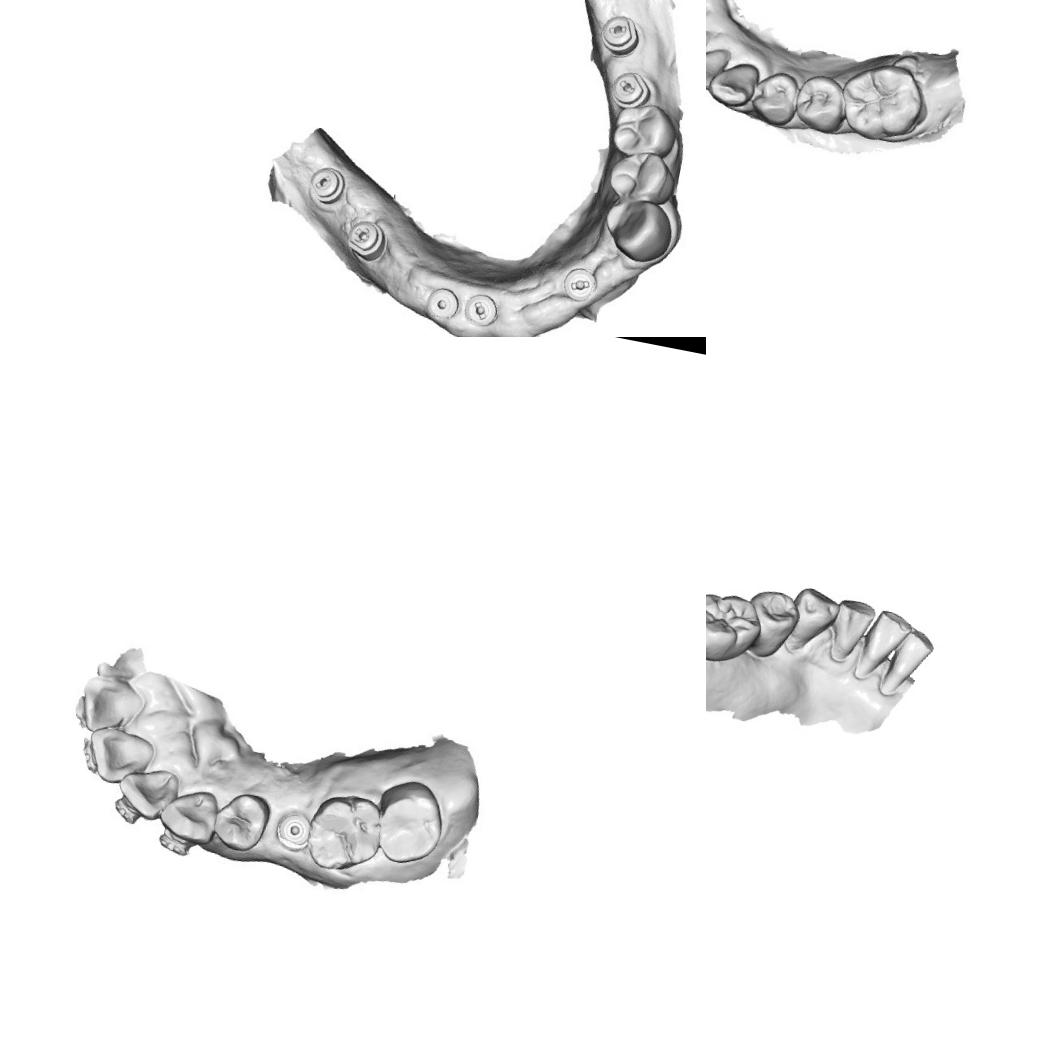canine: (606, 194, 674, 267), (157, 779, 225, 848), (783, 582, 844, 655), (706, 55, 760, 112)
implant: (421, 280, 463, 324), (273, 809, 312, 852)
implant_minus: (593, 6, 648, 66), (606, 65, 656, 116), (302, 159, 350, 206), (562, 264, 606, 312), (461, 292, 498, 332)
implant_plus: (343, 215, 388, 267)
incisor: (856, 601, 916, 682), (76, 671, 146, 740), (883, 622, 942, 696), (86, 726, 158, 786), (115, 764, 180, 828), (823, 594, 879, 668), (706, 41, 730, 90)
molar: (836, 57, 928, 146), (304, 792, 385, 875), (375, 778, 448, 866), (706, 585, 765, 672)
premolar: (738, 585, 804, 666), (607, 102, 678, 164), (607, 149, 678, 209), (212, 788, 272, 856), (746, 66, 804, 128), (794, 76, 846, 136)
